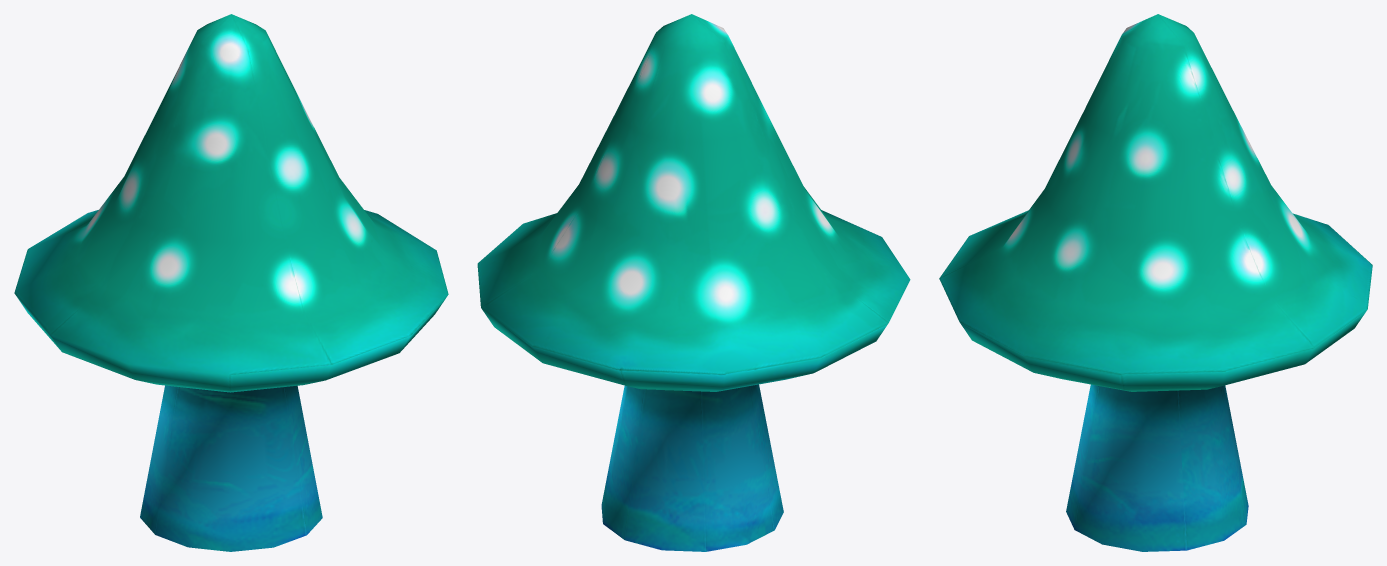
The model's file is Plant_002.fbx.
3 renders of one model, left to right at view 1: azimuth 30°, elevation 25°; view 2: azimuth 150°, elevation 25°; view 3: azimuth 270°, elevation 25°, orthographic.
Visible parts, largest first — view 1: Plant_002; view 2: Plant_002; view 3: Plant_002.
Boxes of the visible parts, left/top/right/bottom form: Plant_002: left=14, top=14, right=448, bottom=551; Plant_002: left=477, top=14, right=910, bottom=551; Plant_002: left=939, top=14, right=1372, bottom=551.
Size of the model in its own units: 256 by 325 by 255.
